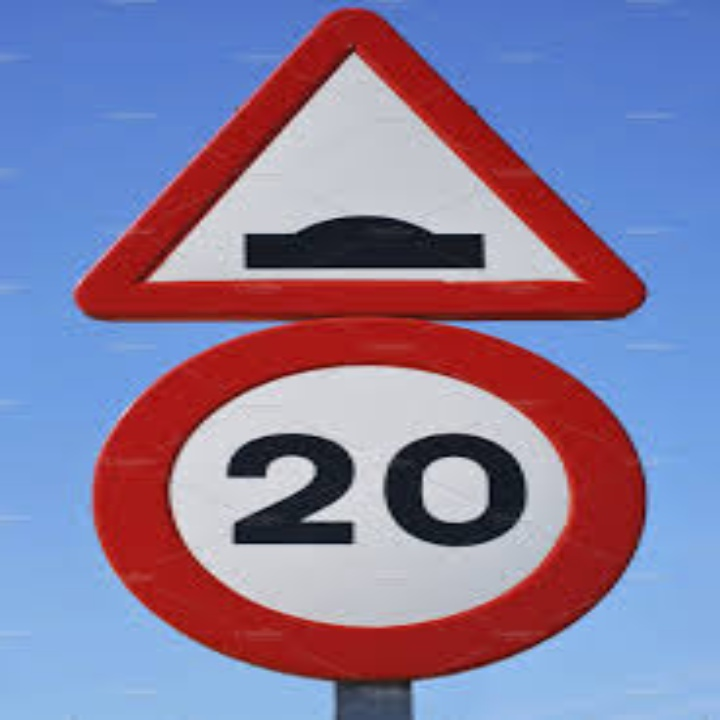bump: (223, 197, 517, 295)
